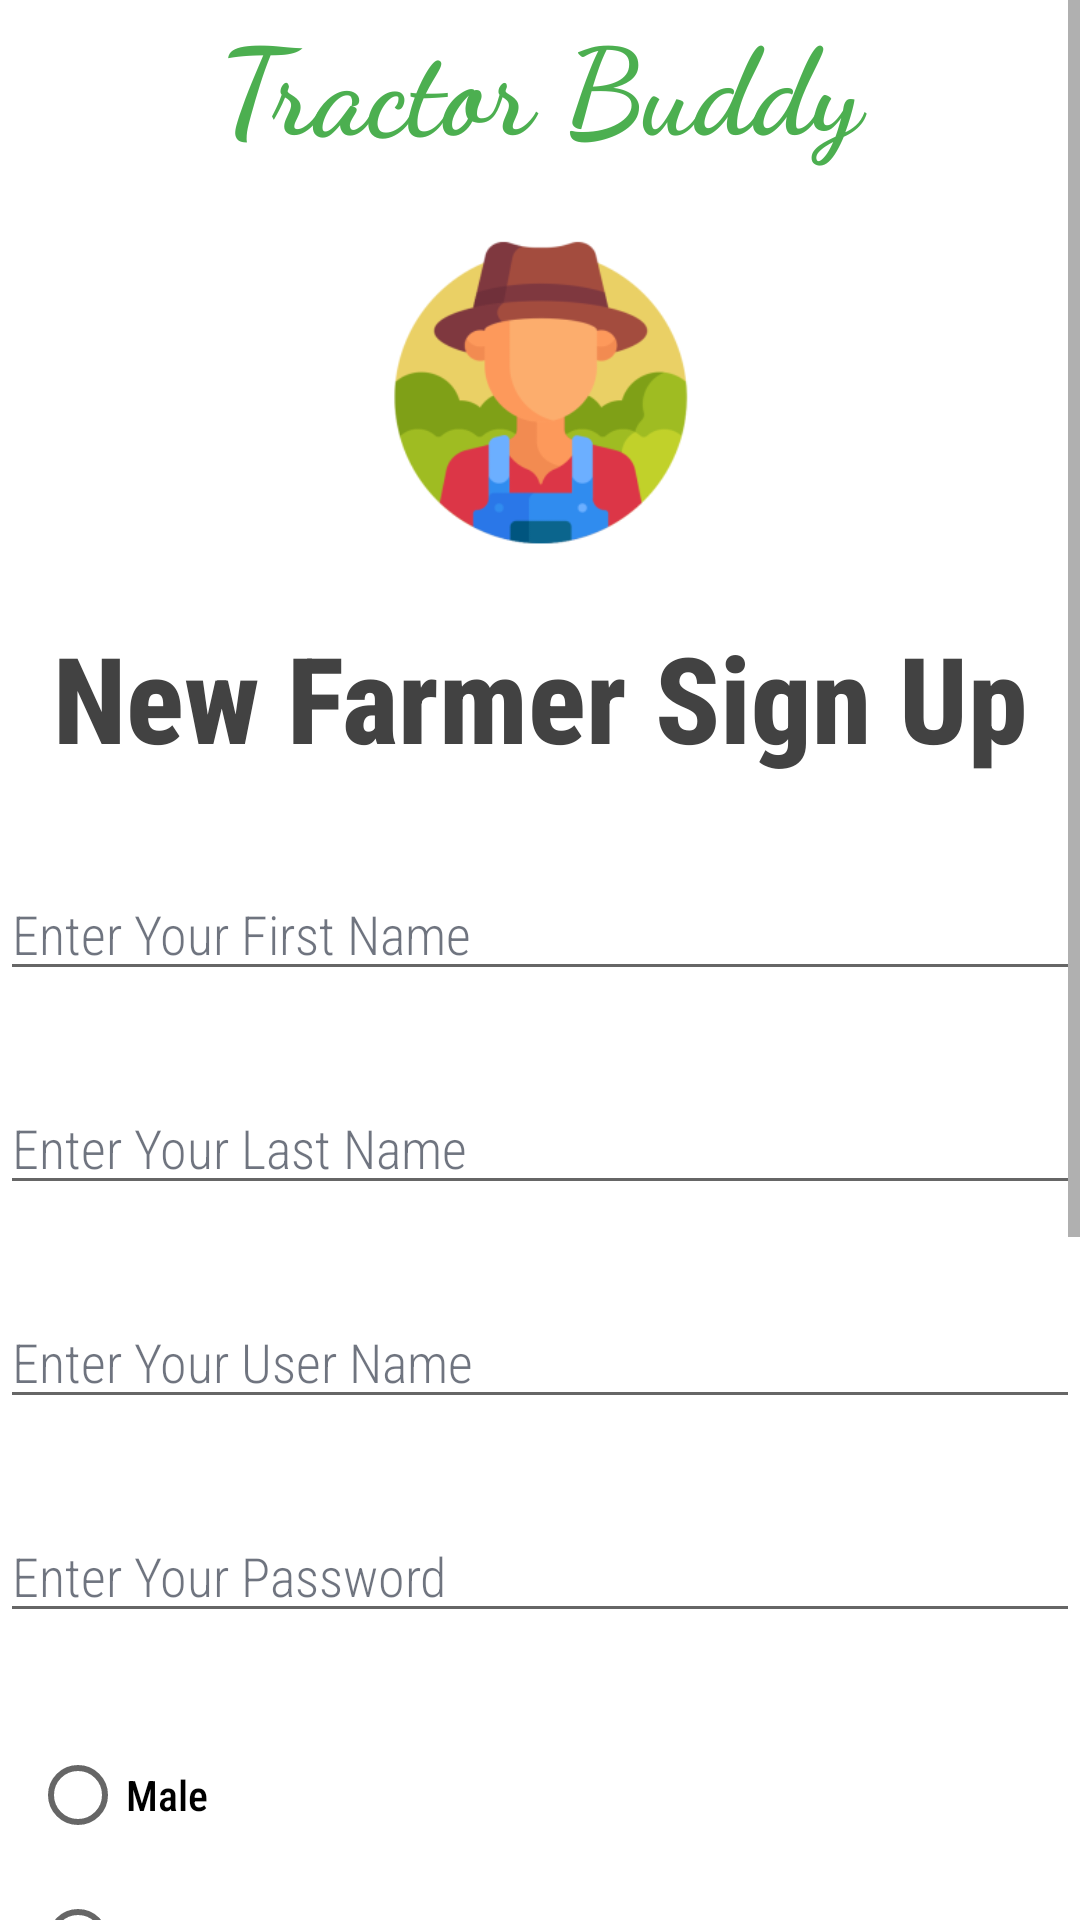

Icon bounding boxes for this 1080×1920 phone screenshot, format (x1, y1, x2, y2):
farmerimg: (394, 241, 688, 544)
